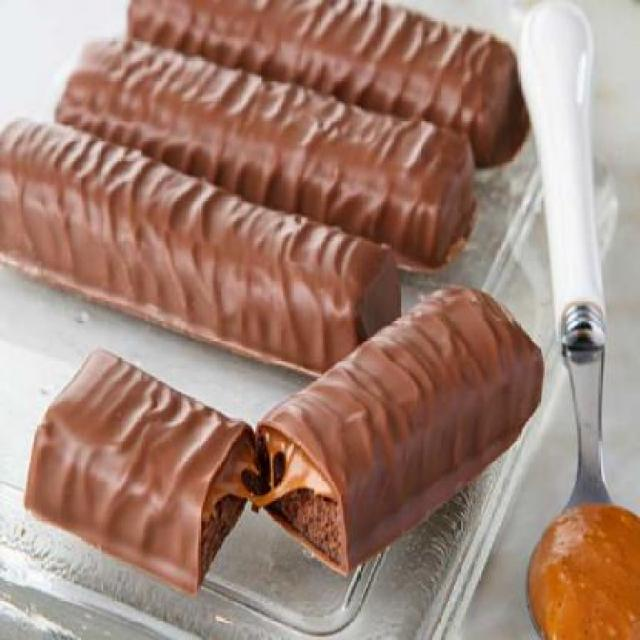Chocolate bar packaged: (21, 288, 542, 602), (1, 120, 404, 382), (53, 33, 484, 276)
